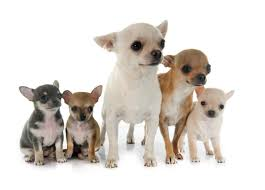chihuahua: (99, 19, 169, 168), (155, 48, 211, 166), (18, 78, 63, 166), (186, 87, 236, 162), (62, 84, 102, 163)
